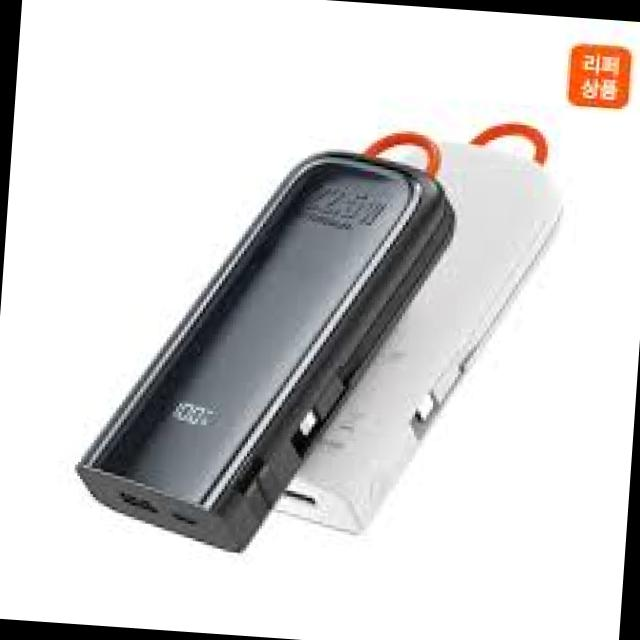portable-charger: (57, 133, 460, 572), (276, 132, 565, 550)
